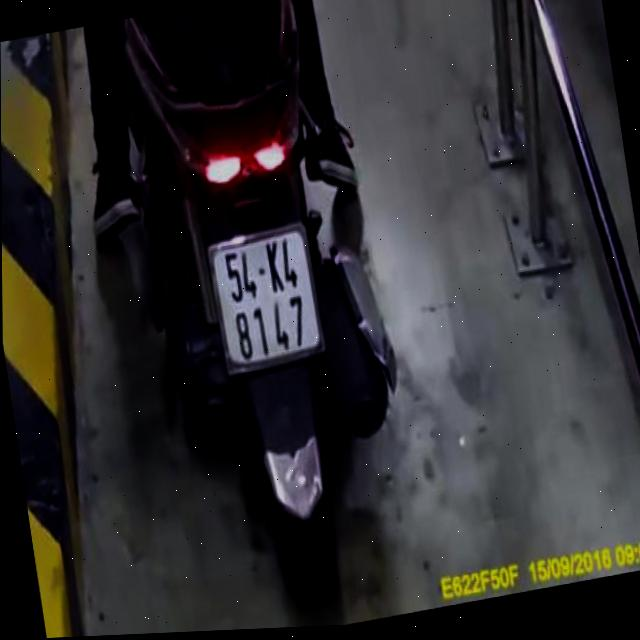motorcycle: (107, 0, 431, 615)
plate: (203, 215, 336, 383)
